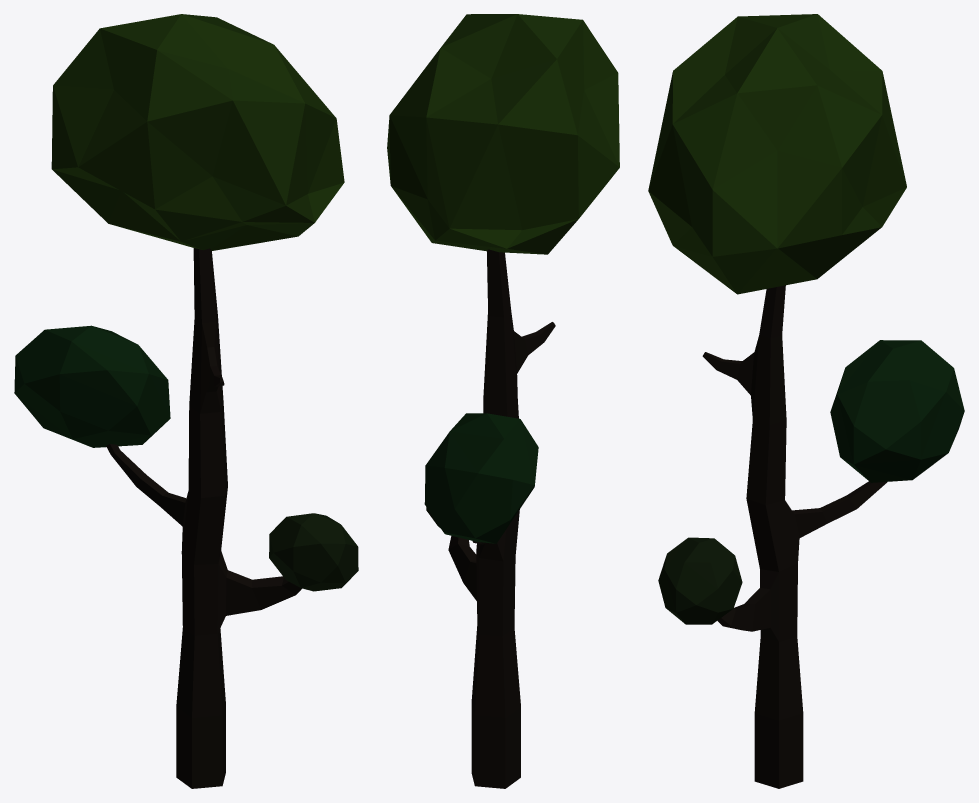
File: tree4.FBX
The picture shows the model from 3 angles, left to right: view 1: azimuth 30°, elevation 25°; view 2: azimuth 150°, elevation 25°; view 3: azimuth 270°, elevation 25°; orthographic projection. The views are drawn at different scales.
Parts seen in each view (by area): view 1: Hedra001, Cylinder001, Hedra003, Hedra002; view 2: Hedra001, Cylinder001, Hedra003; view 3: Hedra001, Cylinder001, Hedra003, Hedra002.
Boxes of the visible parts, x1,y1,x2,y2 form: Hedra001: (51,14,344,250); Cylinder001: (106,248,301,788); Hedra003: (14,325,170,447); Hedra002: (269,513,358,591); Hedra001: (387,14,619,254); Cylinder001: (448,249,555,788); Hedra003: (424,413,538,543); Hedra001: (648,14,906,294); Cylinder001: (702,285,887,788); Hedra003: (830,340,964,482); Hedra002: (658,537,742,624).
Bounding box in the file's own units: 61.18 × 193 × 74.79.
